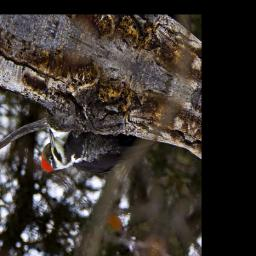Woodpecker: (35, 99, 142, 211)
